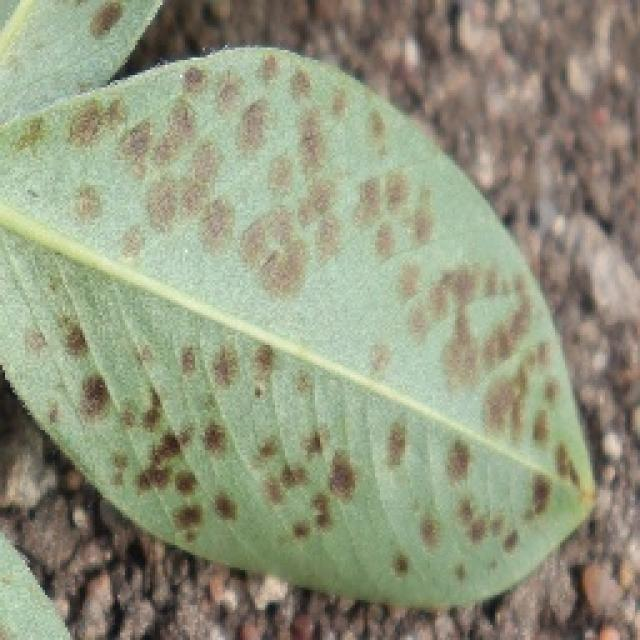Whitefly: (0, 0, 590, 631)
